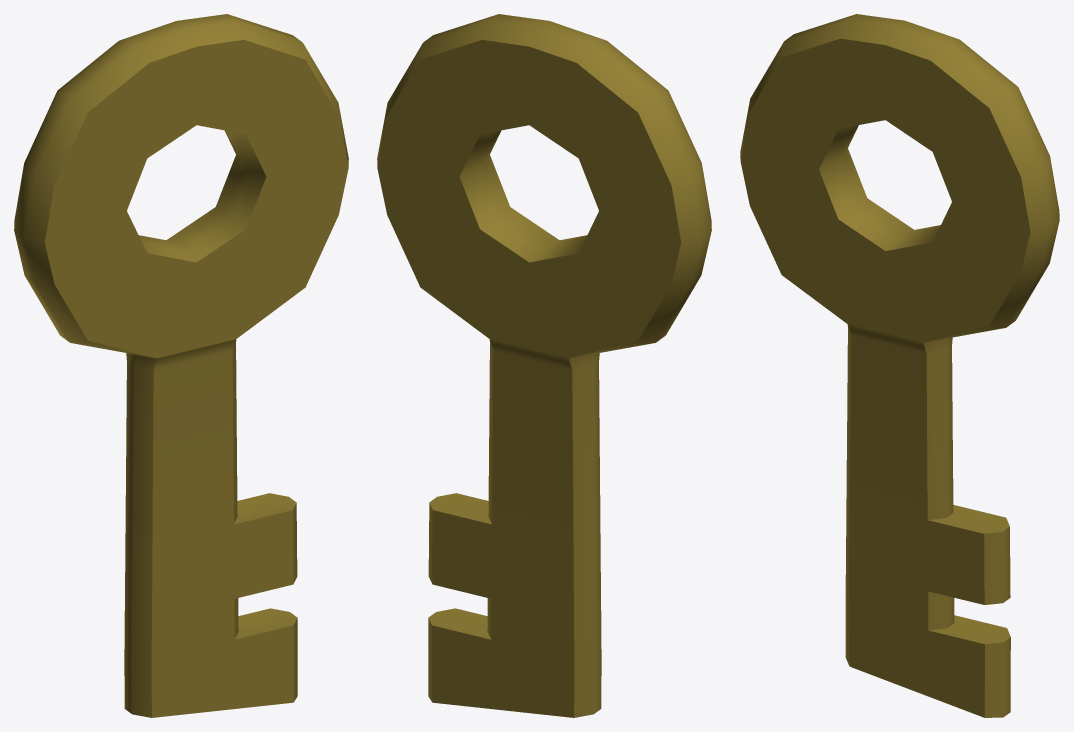
The model's file is Key.fbx.
3 renders of one model, left to right at view 1: azimuth 30°, elevation 25°; view 2: azimuth 150°, elevation 25°; view 3: azimuth 330°, elevation 25°, orthographic. The views are drawn at different scales.
Parts seen in each view (by area): view 1: key; view 2: key; view 3: key.
Part boxes in pixels (left/top/right/bottom): key: left=14, top=14, right=348, bottom=717; key: left=377, top=14, right=711, bottom=717; key: left=740, top=14, right=1059, bottom=717.
Size of the model in its own units: 9.72 by 19.94 by 1.58.
